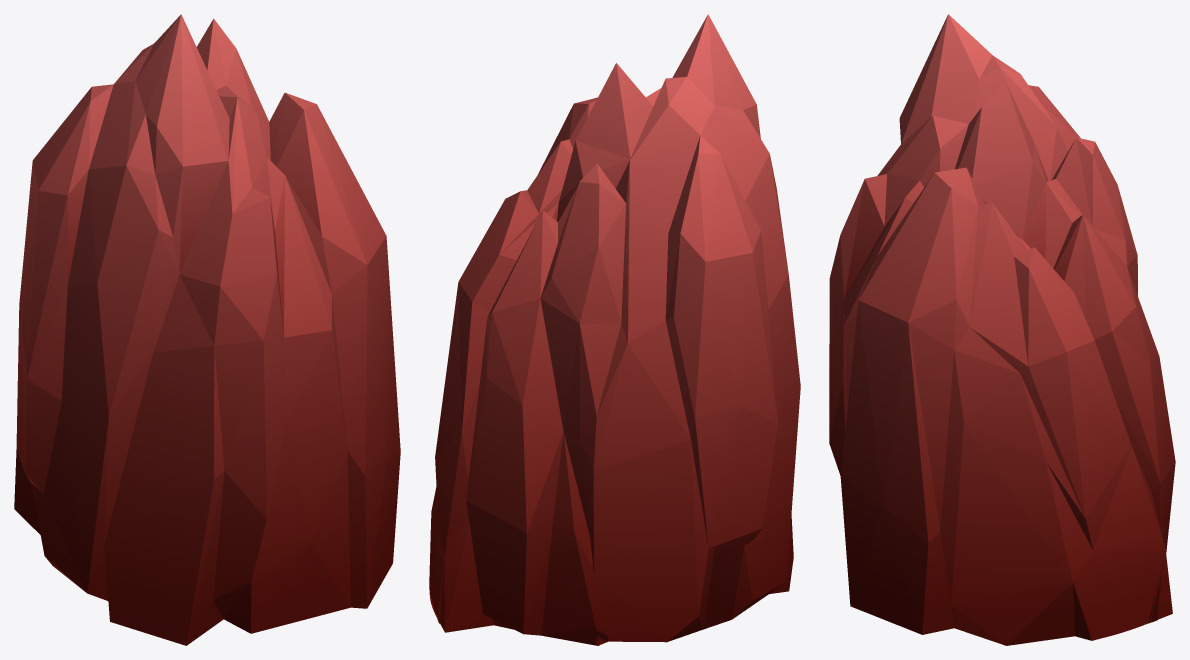
Rendered from Crystal_Formation_01.FBX.
3 renders of one model, left to right at view 1: azimuth 30°, elevation 25°; view 2: azimuth 150°, elevation 25°; view 3: azimuth 270°, elevation 25°, orthographic. The views are drawn at different scales.
Visible parts, largest first — view 1: Merged_PM3D_rocks3.037; view 2: Merged_PM3D_rocks3.037; view 3: Merged_PM3D_rocks3.037.
Boxes of the visible parts, x1,y1,x2,y2 form: Merged_PM3D_rocks3.037: (14, 14, 400, 645); Merged_PM3D_rocks3.037: (429, 14, 800, 645); Merged_PM3D_rocks3.037: (829, 14, 1175, 645).
Bounding box in the file's own units: 232 × 394 × 231.
